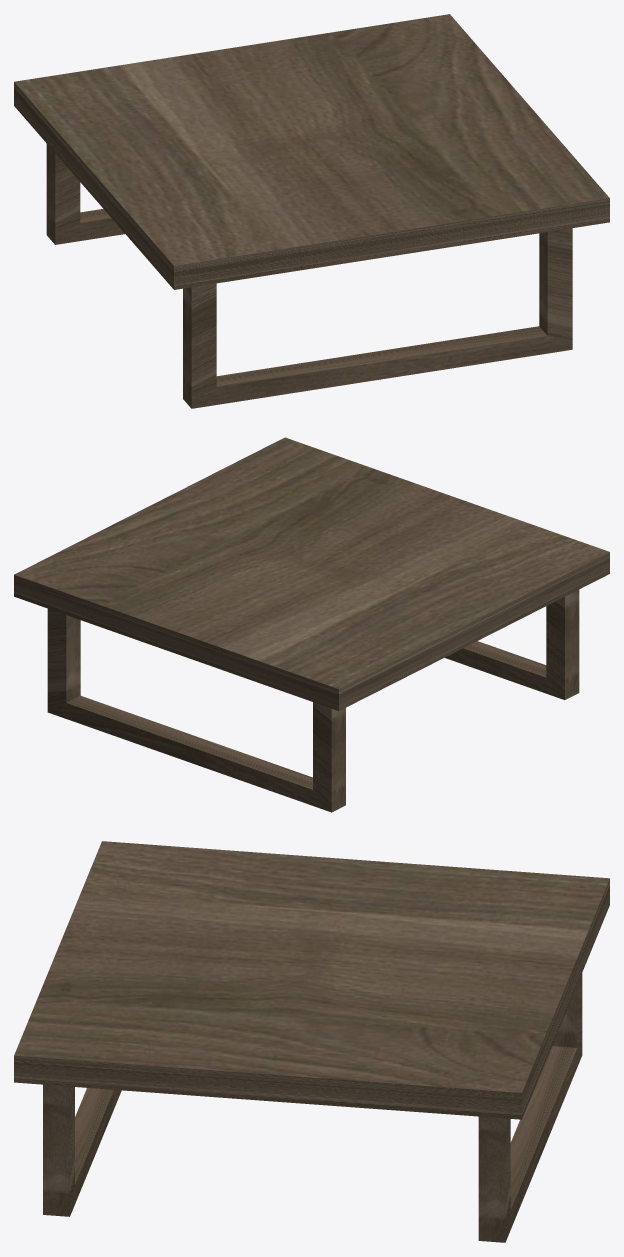
The model's file is table.obj.
3 renders of one model, top to bottom at view 1: azimuth 30°, elevation 25°; view 2: azimuth 150°, elevation 25°; view 3: azimuth 270°, elevation 25°, orthographic. The views are drawn at different scales.
Parts seen in each view (by area): view 1: Cube.001; view 2: Cube.001; view 3: Cube.001.
Part boxes in pixels (box(x1,y1,x2,y2)): Cube.001: box(14, 14, 609, 408); Cube.001: box(14, 437, 609, 812); Cube.001: box(14, 841, 609, 1242).
Size of the model in its own units: 4.04 by 1.29 by 4.04.
Materials: 1 (1 with a texture image).
